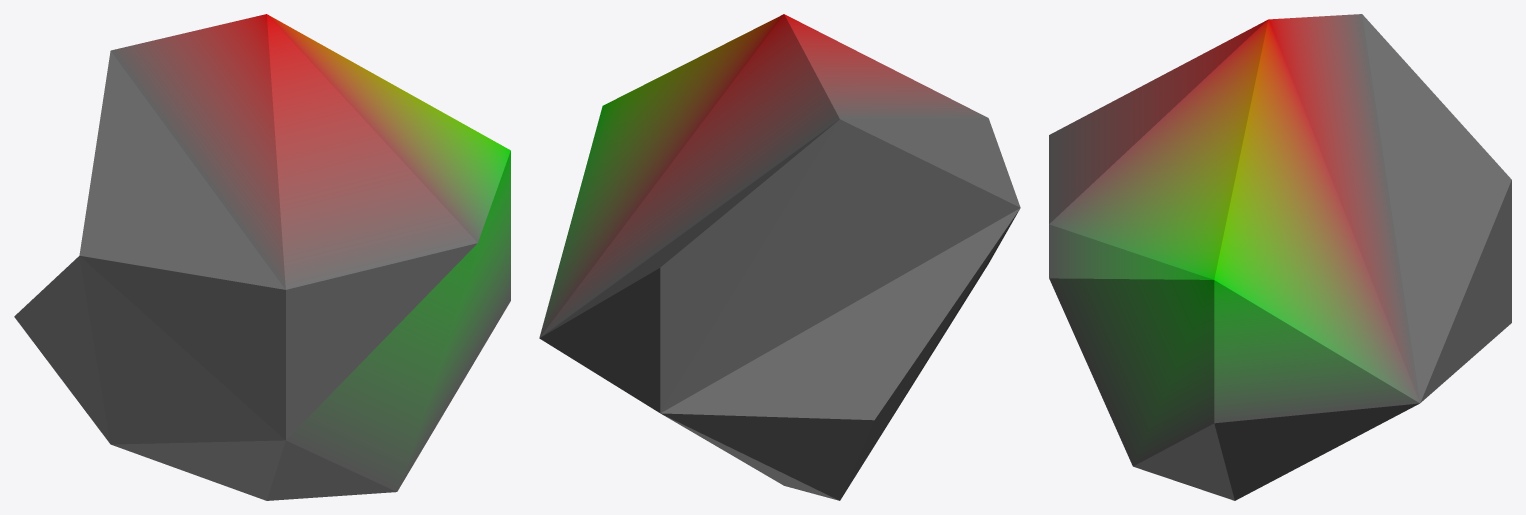
The model's file is re_decimating_conquest_3_before.obj.
3 views of the same model, side by side, from view 1: azimuth 30°, elevation 25°; view 2: azimuth 150°, elevation 25°; view 3: azimuth 270°, elevation 25° (orthographic). The views are drawn at different scales.
Size of the model in its own units: 1.85 by 2 by 1.81.
